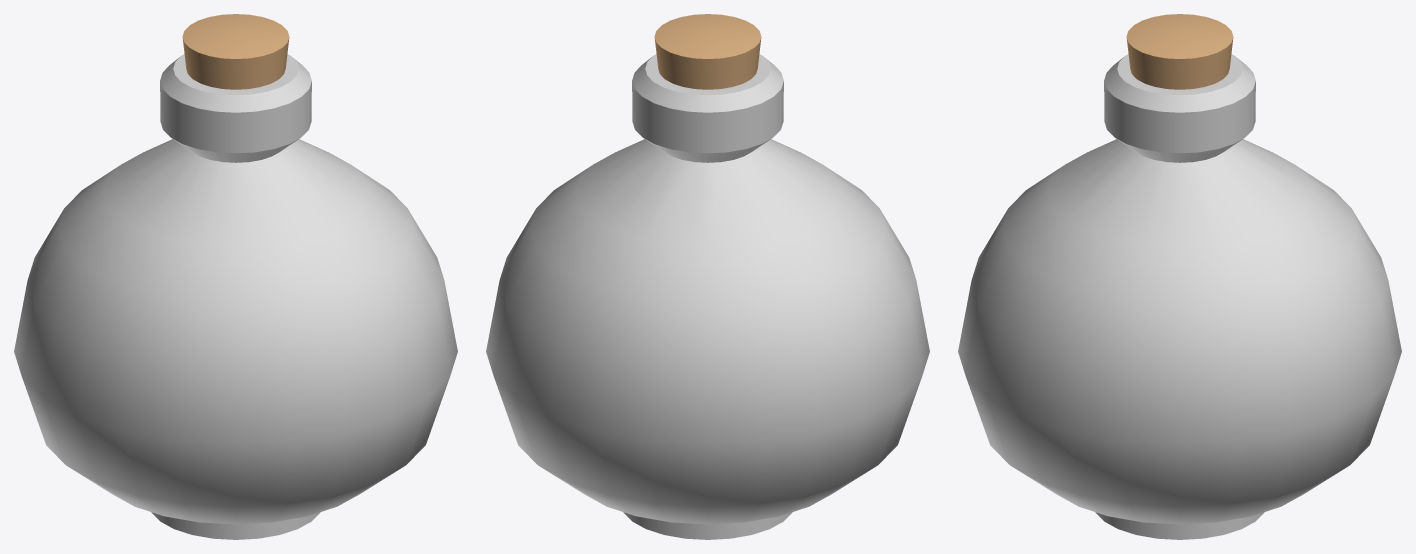
File: potionLarge_red.dae
3 renders of one model, left to right at view 1: azimuth 30°, elevation 25°; view 2: azimuth 150°, elevation 25°; view 3: azimuth 270°, elevation 25°, orthographic.
Parts seen in each view (by area): view 1: potionLarge_red; view 2: potionLarge_red; view 3: potionLarge_red.
Part boxes in pixels (left/top/right/bottom): potionLarge_red: left=14, top=14, right=457, bottom=539; potionLarge_red: left=486, top=14, right=929, bottom=539; potionLarge_red: left=958, top=14, right=1401, bottom=539.
Bounding box in the file's own units: 1 × 1 × 1.18.
